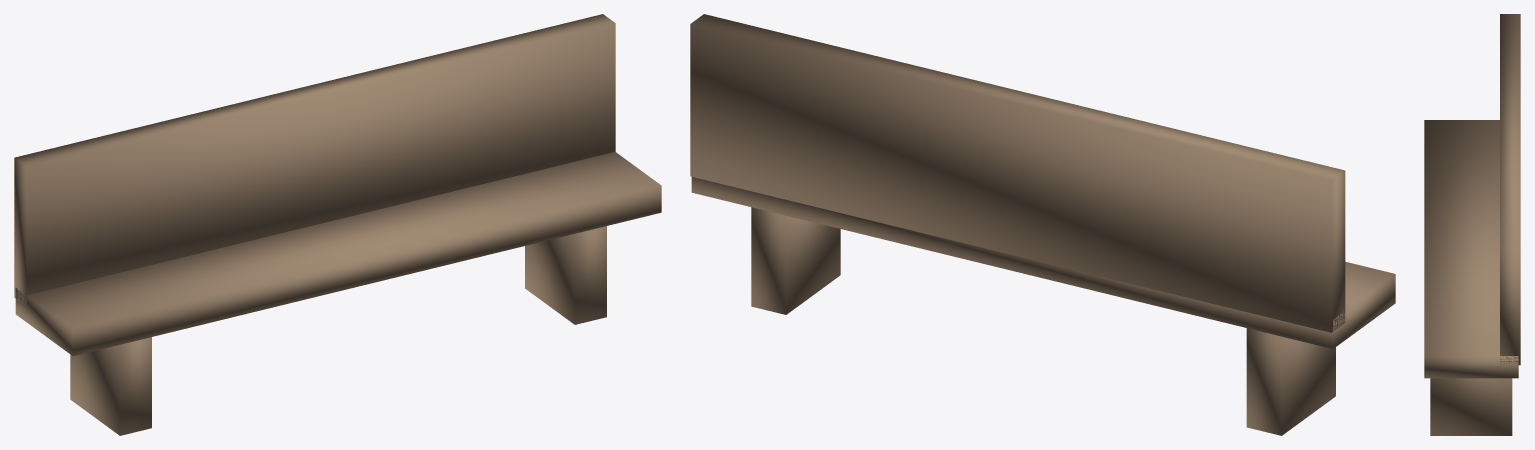
The model's file is church_pew__wide.glb.
The picture shows the model from 3 angles, left to right: view 1: azimuth 30°, elevation 25°; view 2: azimuth 150°, elevation 25°; view 3: azimuth 270°, elevation 25°; orthographic projection. The views are drawn at different scales.
Visible parts, largest first — view 1: world; view 2: world; view 3: world.
Boxes of the visible parts, box(x1,y1,x2,y2) form: world: box(14, 14, 661, 435); world: box(690, 14, 1395, 435); world: box(1424, 14, 1520, 435).
Bounding box in the file's own units: 2.73 × 1.11 × 0.47.
